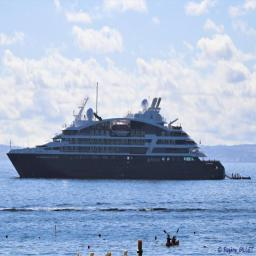cruises: (5, 81, 227, 185)
